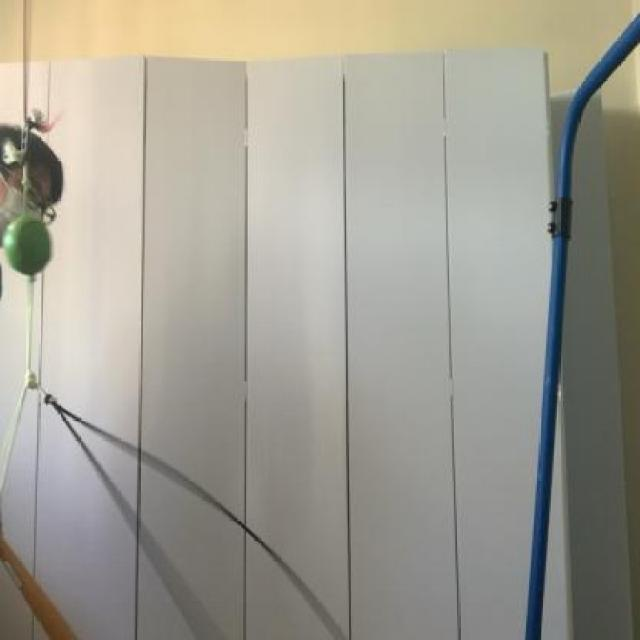baseball: (0, 215, 57, 278)
